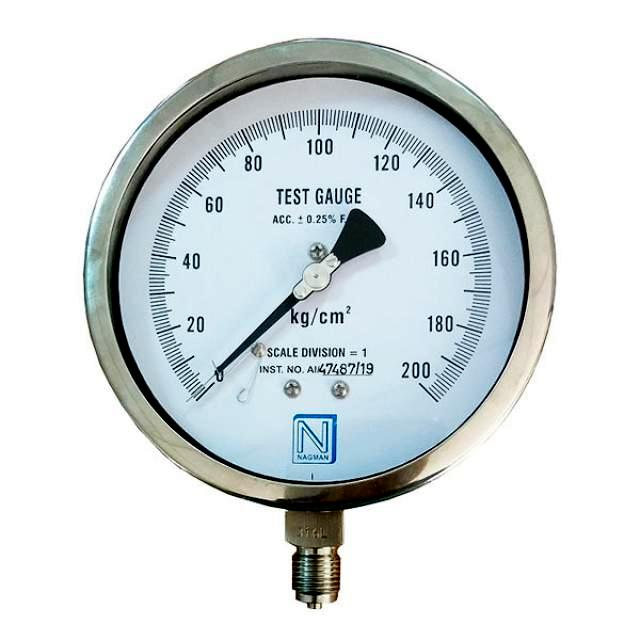Needle_Tip: (184, 335, 279, 390)
Needle_base: (288, 257, 354, 303)
max_value: (379, 344, 463, 406)
min_value: (196, 343, 249, 414)
